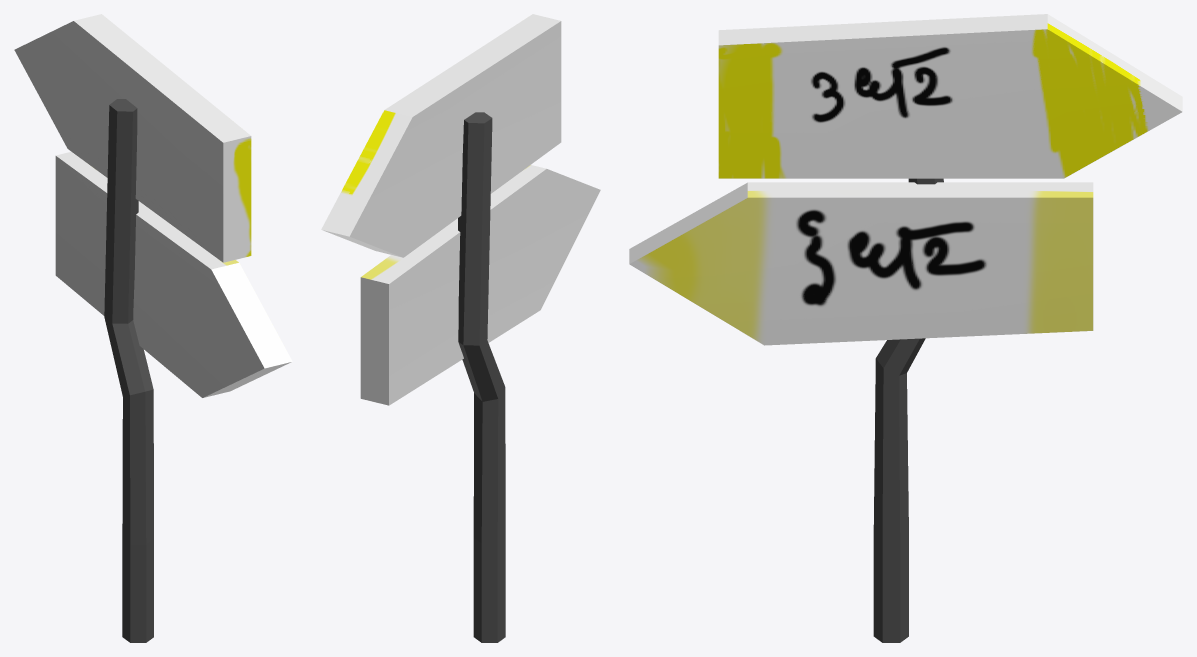
File: Signpost.fbx
3 views of the same model, side by side, from view 1: azimuth 30°, elevation 25°; view 2: azimuth 150°, elevation 25°; view 3: azimuth 270°, elevation 25° (orthographic). The views are drawn at different scales.
Visible parts, largest first — view 1: Sign 2, Sign1, Stand; view 2: Sign 2, Sign1, Stand; view 3: Sign 2, Sign1, Stand.
Boxes of the visible parts, x1,y1,x2,y2 form: Sign 2: (14,14,251,262); Sign1: (55,151,292,397); Stand: (104,99,153,642); Sign 2: (321,14,561,257); Sign1: (360,165,600,405); Stand: (458,112,505,642); Sign 2: (718,14,1182,178); Sign1: (629,182,1093,345); Stand: (873,178,943,642).
Bounding box in the file's own units: 0.7966 × 8.88 × 7.12.
